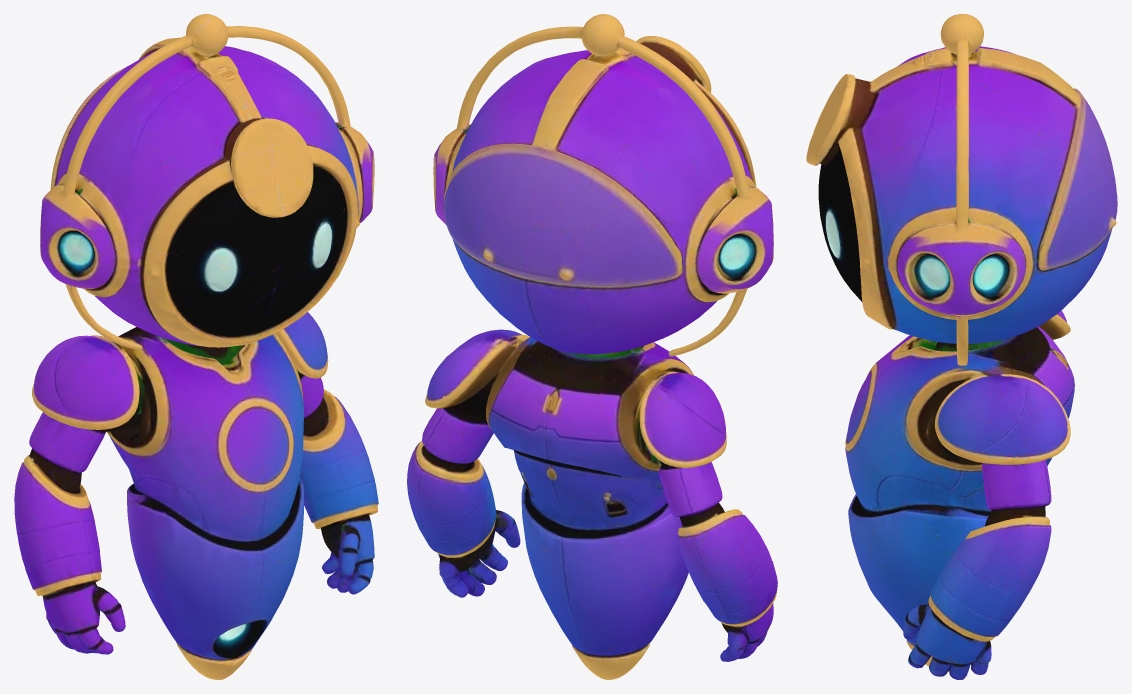
The model's file is architect.glb.
3 renders of one model, left to right at view 1: azimuth 30°, elevation 25°; view 2: azimuth 150°, elevation 25°; view 3: azimuth 270°, elevation 25°, orthographic.
Size of the model in its own units: 1.03 by 1.9 by 0.8171.
1 material, 1 textured.
